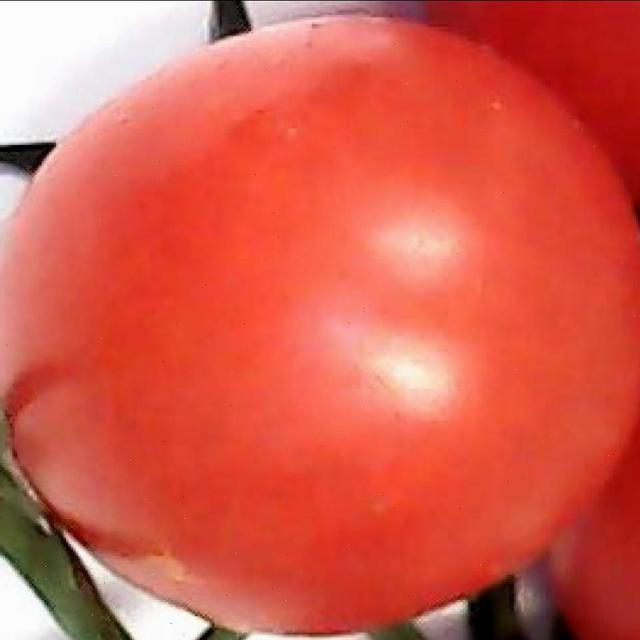Healthy Fruit: (1, 22, 412, 427)
